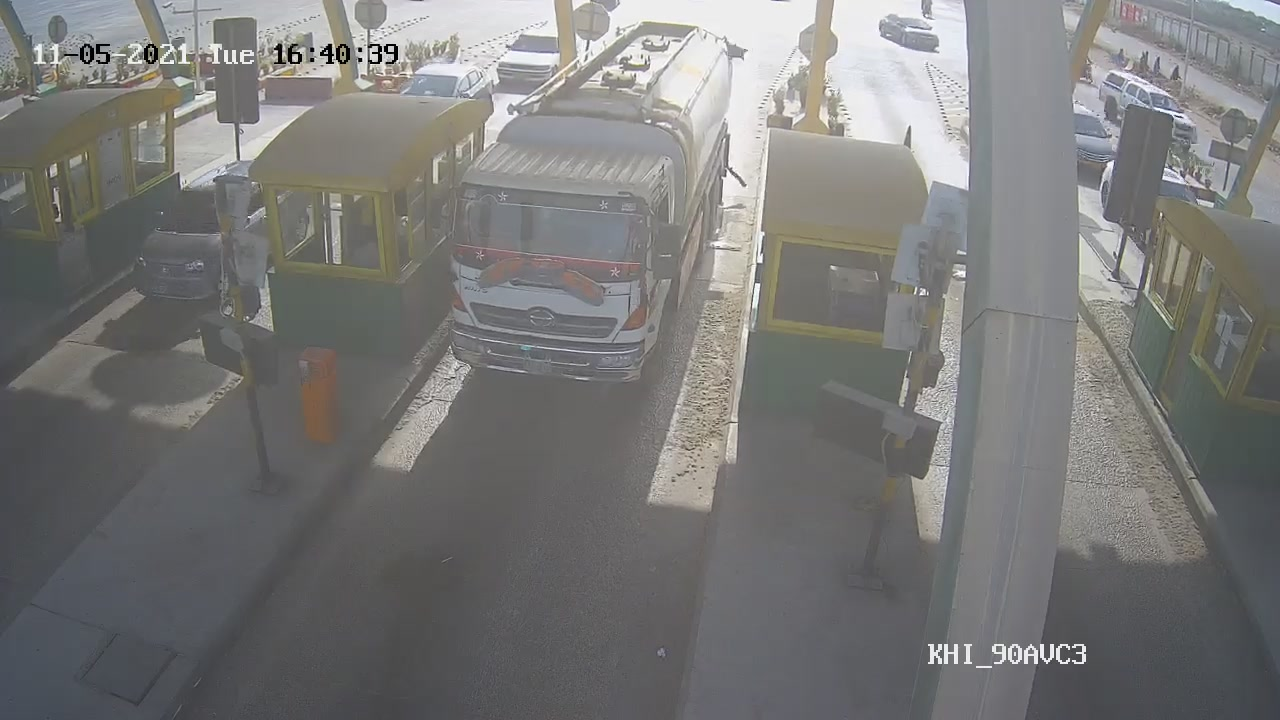F6: (444, 19, 742, 390)
